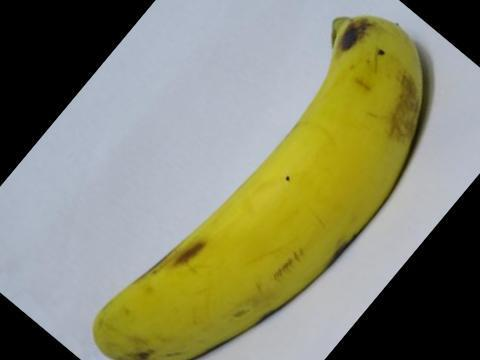freshripe: (87, 0, 440, 359)
